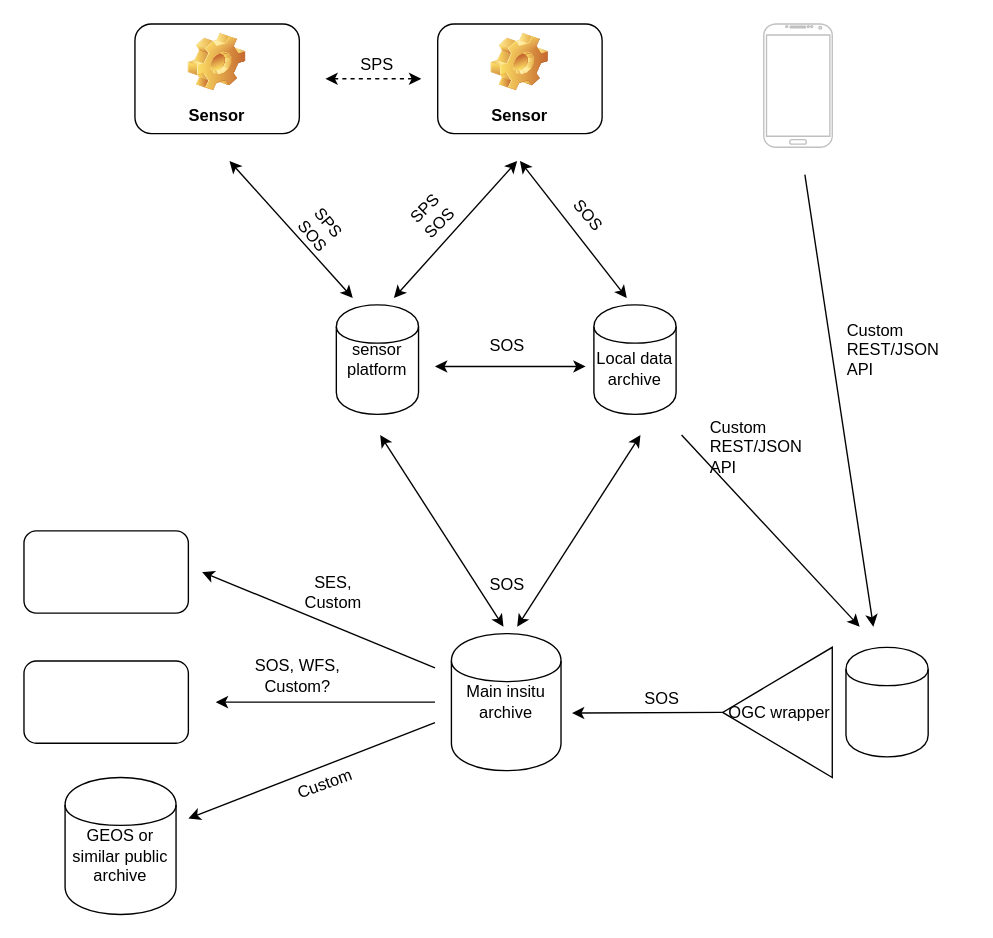
The diagram is 993 pixels wide and 938 high, and some of its shapes have lost their labels. Each missing label, with the centre of its shape:
"Apps, Websites, Portals" goes at (105,701).
"Dynamic Alert system" goes at (105,571).
"FWW app" goes at (797,85).
"FWW archive" goes at (886,701).
